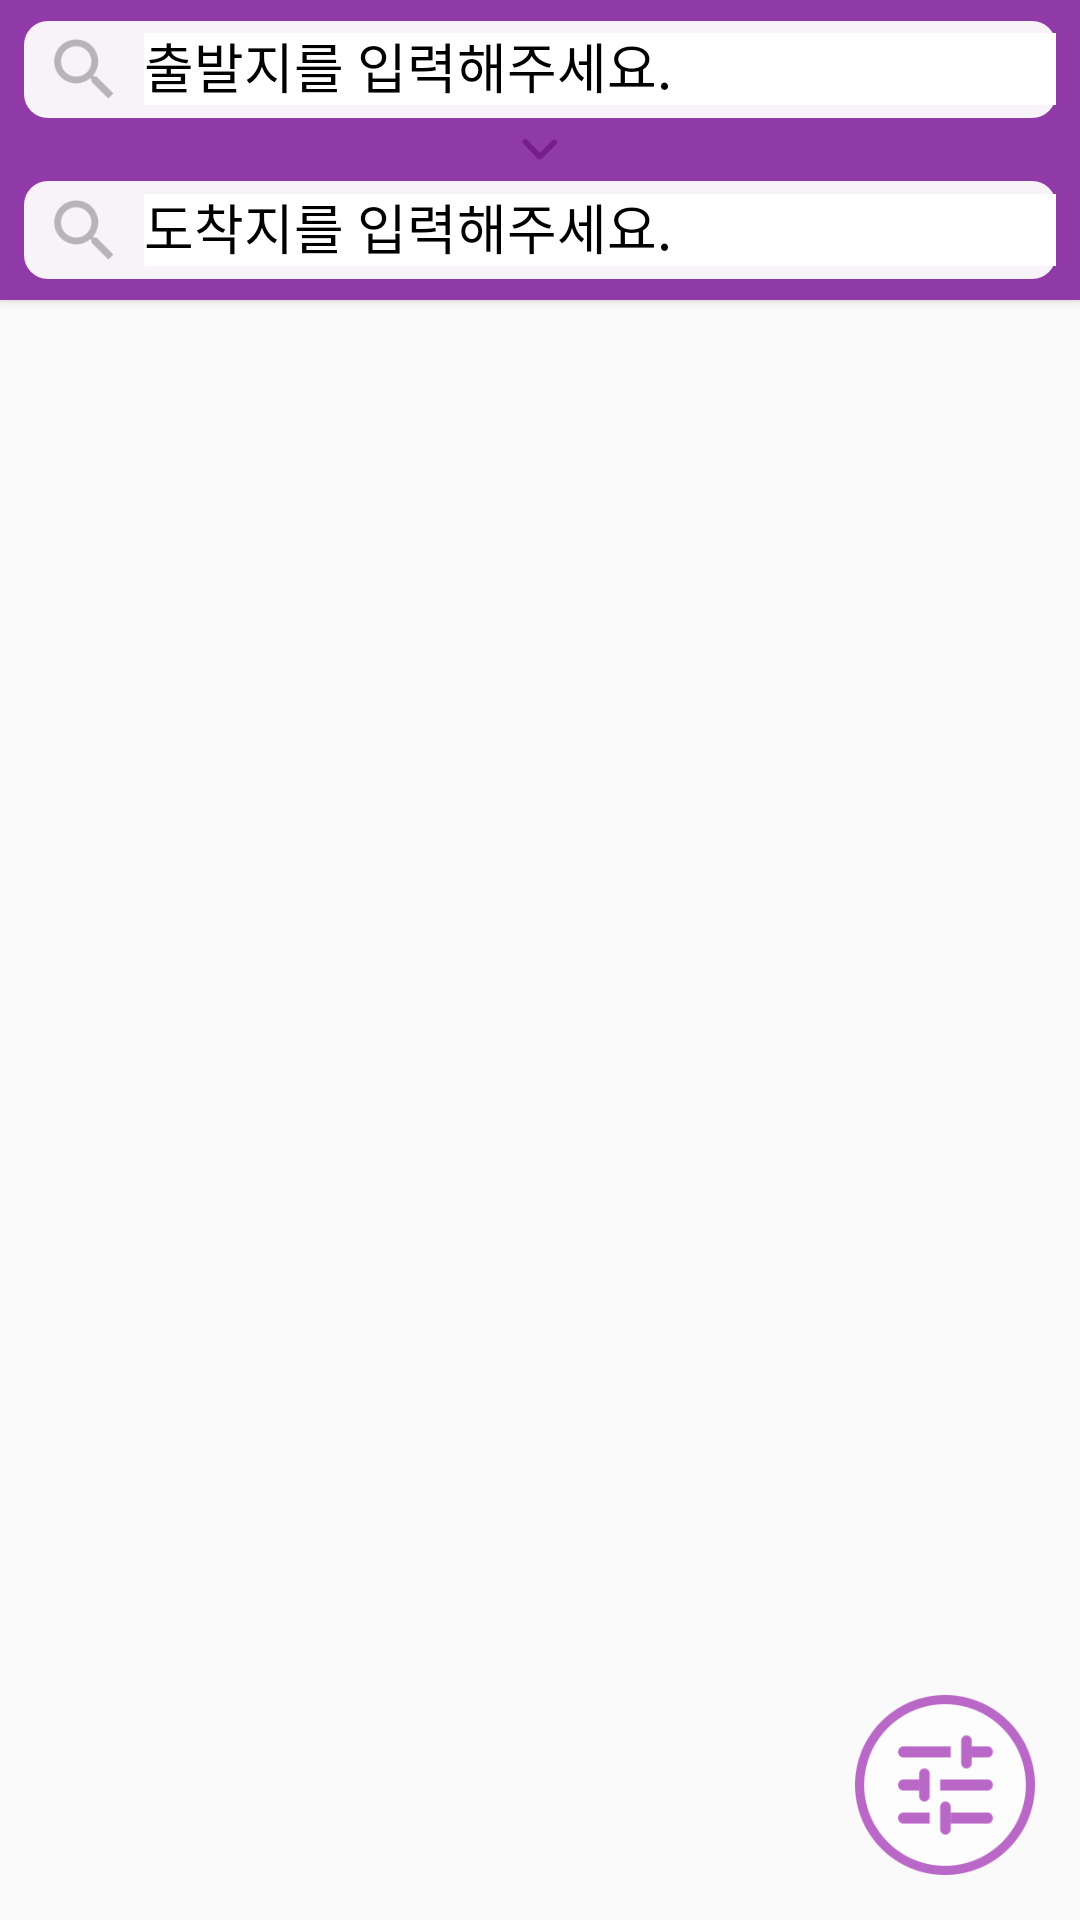

Where icons sit on this 1080px×1920px app screen, as (x1, y1, x2, y2):
search: (54, 39, 113, 98), (54, 200, 113, 259)
